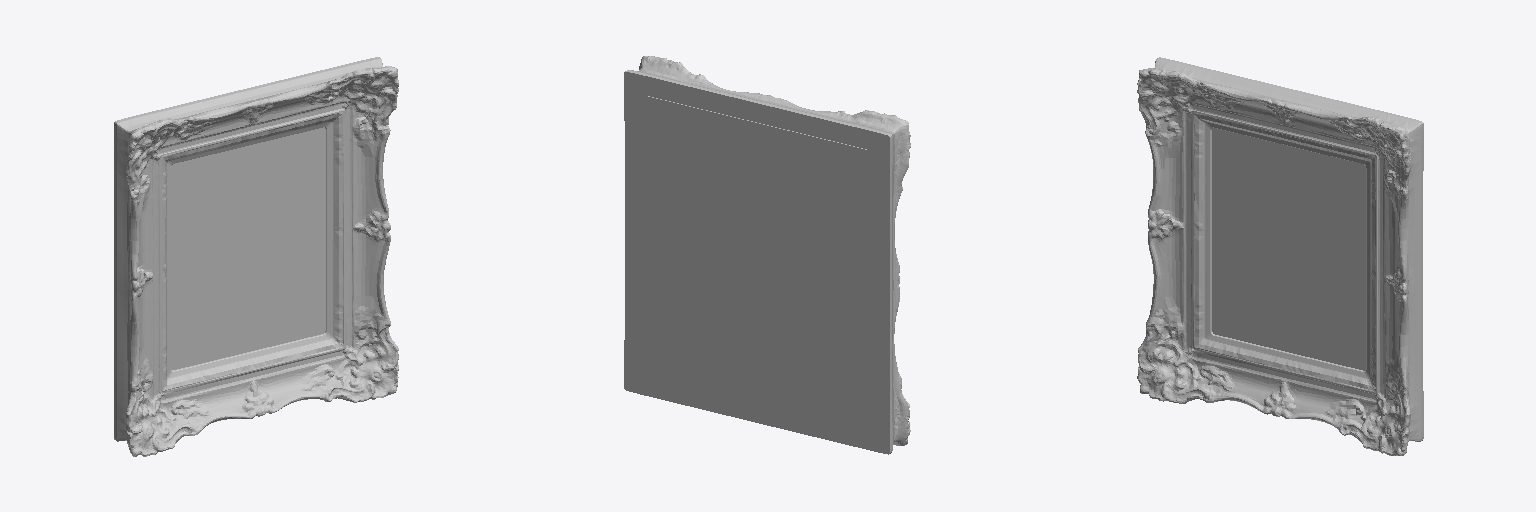
Rendered from fancy_picture_frame_02_4k.obj.
3 renders of one model, left to right at view 1: azimuth 30°, elevation 25°; view 2: azimuth 150°, elevation 25°; view 3: azimuth 330°, elevation 25°, orthographic.
Parts seen in each view (by area): view 1: fancy_picture_frame_02, fancy_picture_frame_02_canvas; view 2: fancy_picture_frame_02; view 3: fancy_picture_frame_02, fancy_picture_frame_02_canvas.
Part boxes in pixels (left/top/right/bottom): fancy_picture_frame_02: left=114, top=57, right=398, bottom=456; fancy_picture_frame_02_canvas: left=171, top=127, right=325, bottom=369; fancy_picture_frame_02: left=624, top=56, right=910, bottom=454; fancy_picture_frame_02: left=1137, top=57, right=1423, bottom=455; fancy_picture_frame_02_canvas: left=1212, top=128, right=1365, bottom=370.
Bounding box in the file's own units: 0.6606 × 0.771 × 0.089.